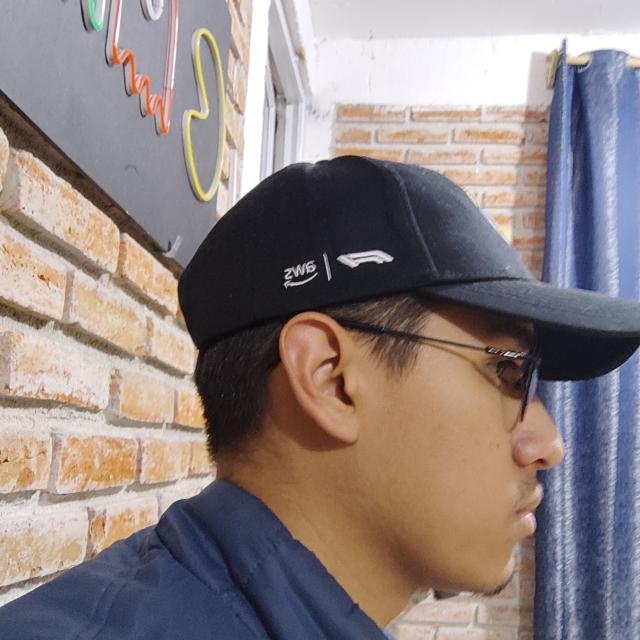ear: (278, 312, 363, 444)
